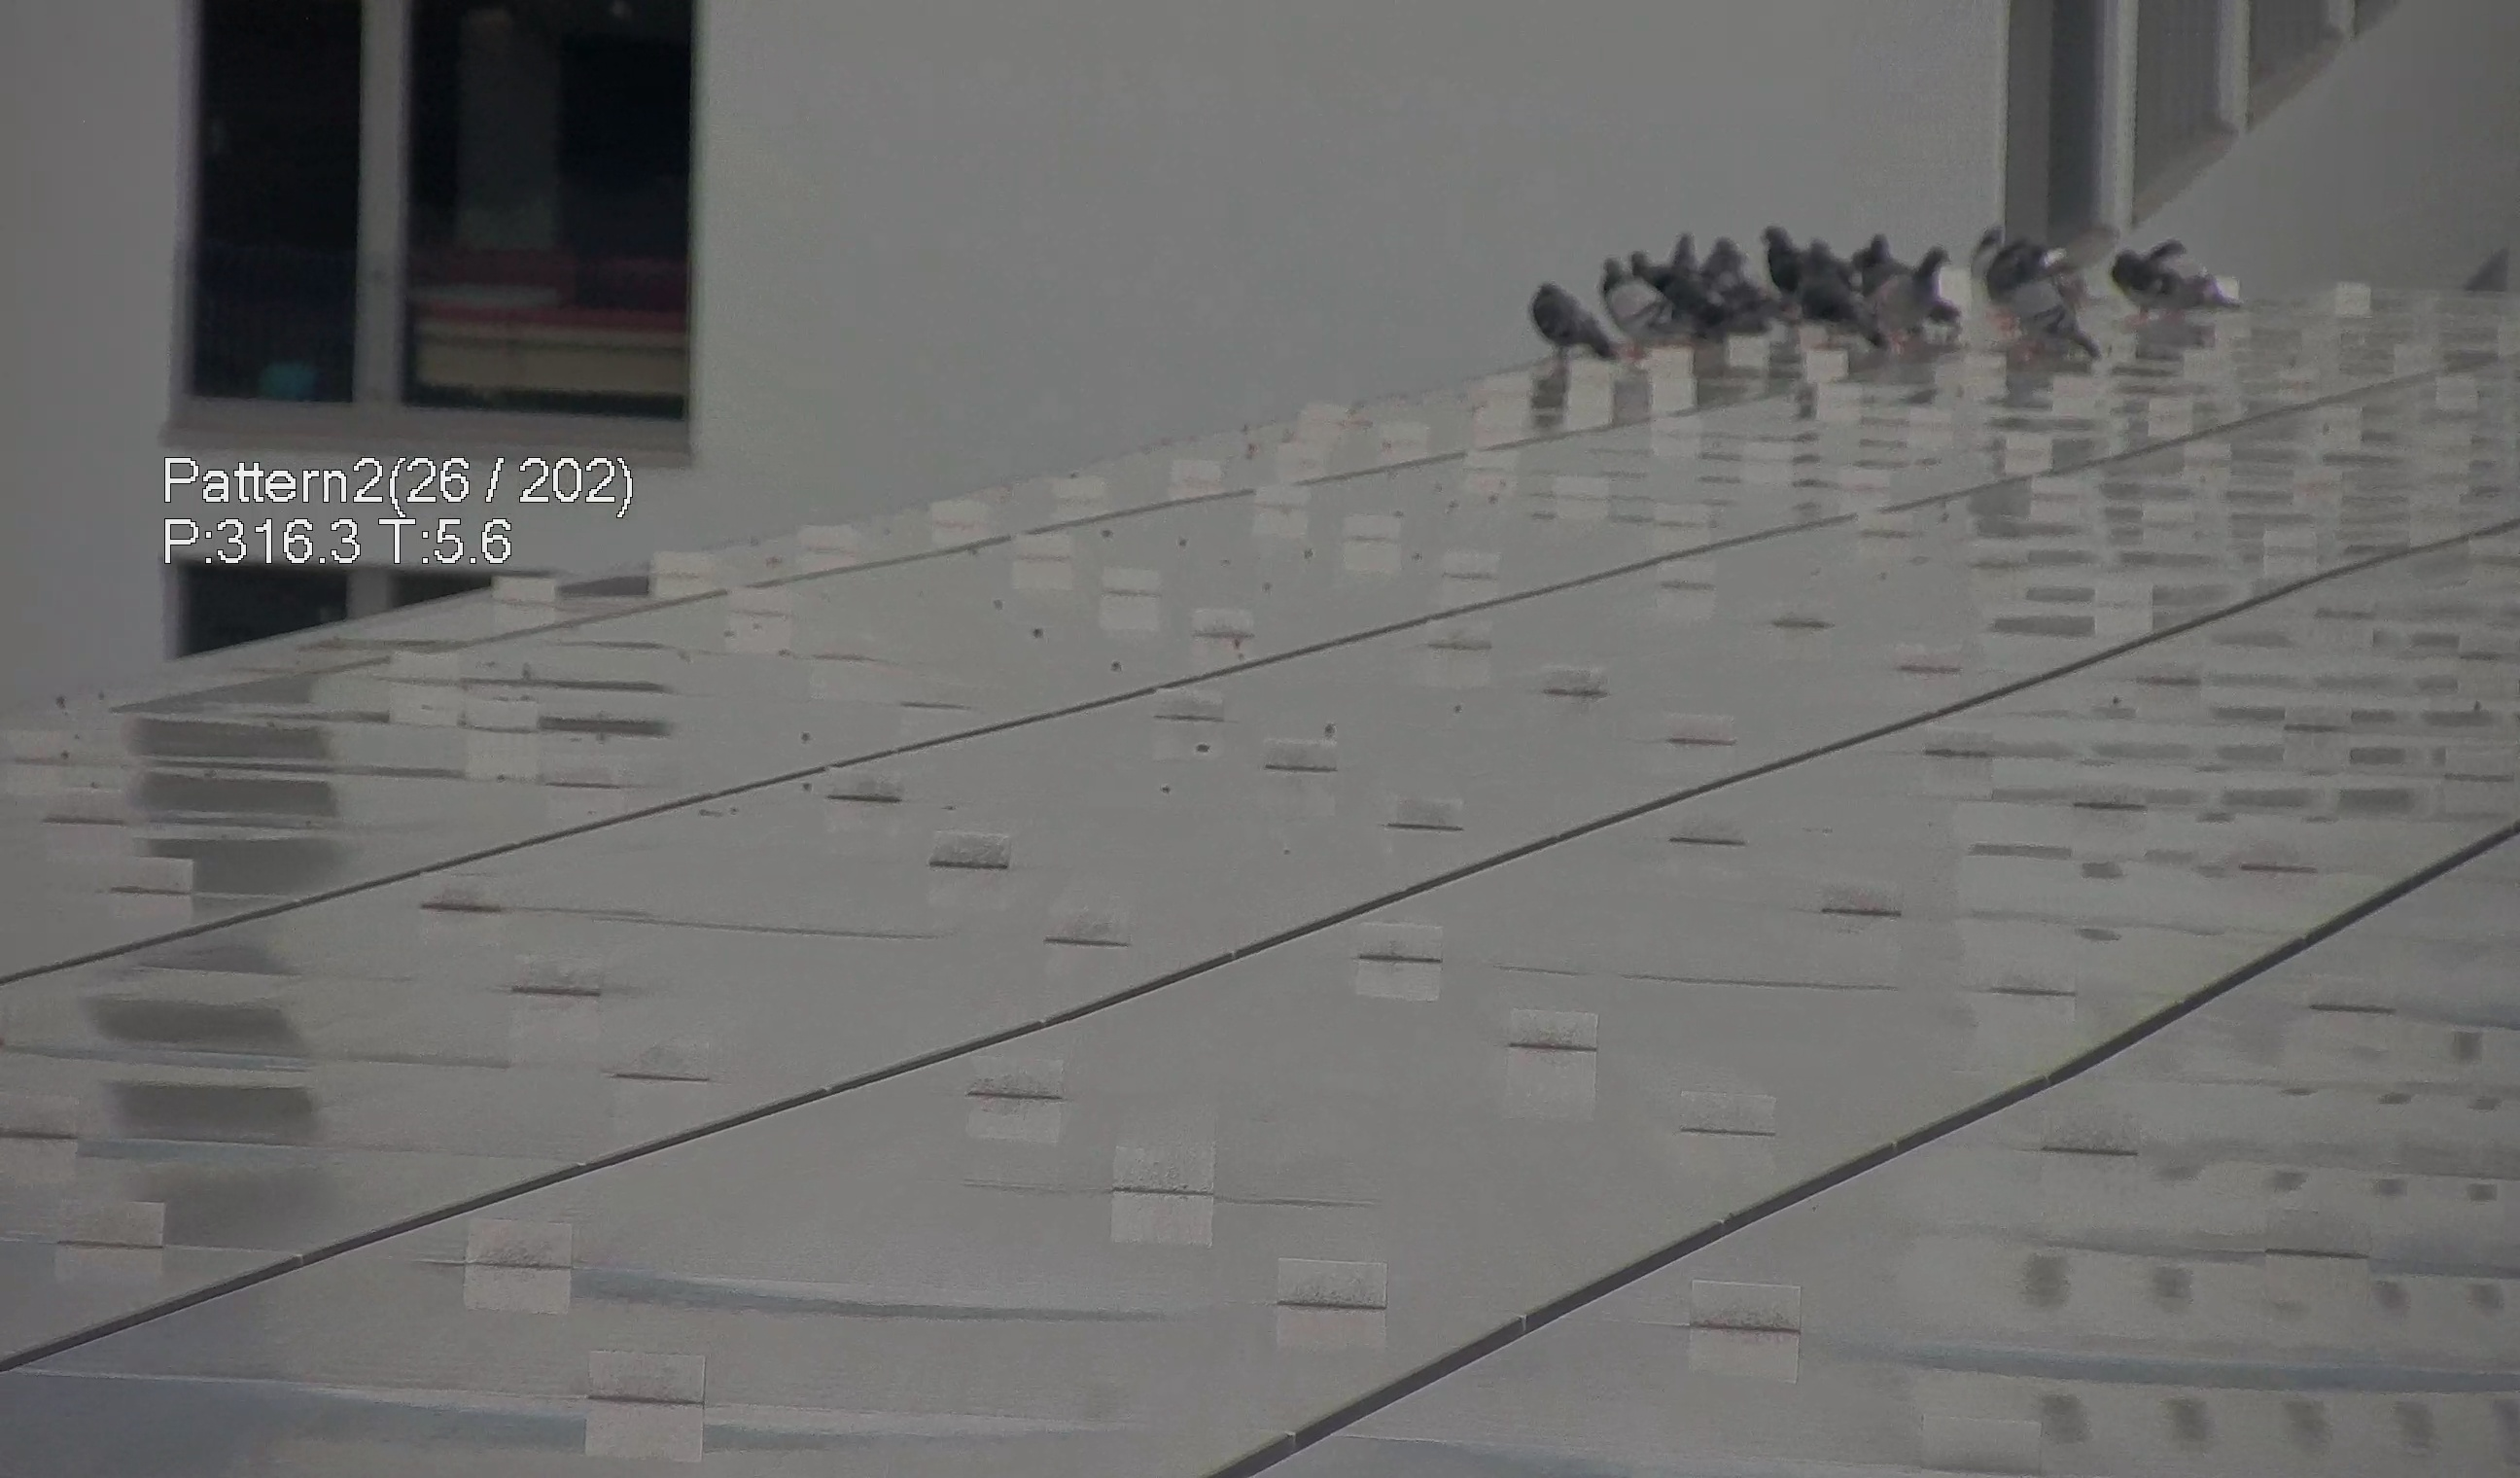Pigeon: (1998, 245, 2101, 385), (1857, 239, 1952, 354), (1523, 267, 1630, 368), (2114, 229, 2242, 306), (1599, 260, 1697, 350), (1693, 208, 1769, 320), (1966, 220, 2029, 301), (1760, 229, 1810, 297)
